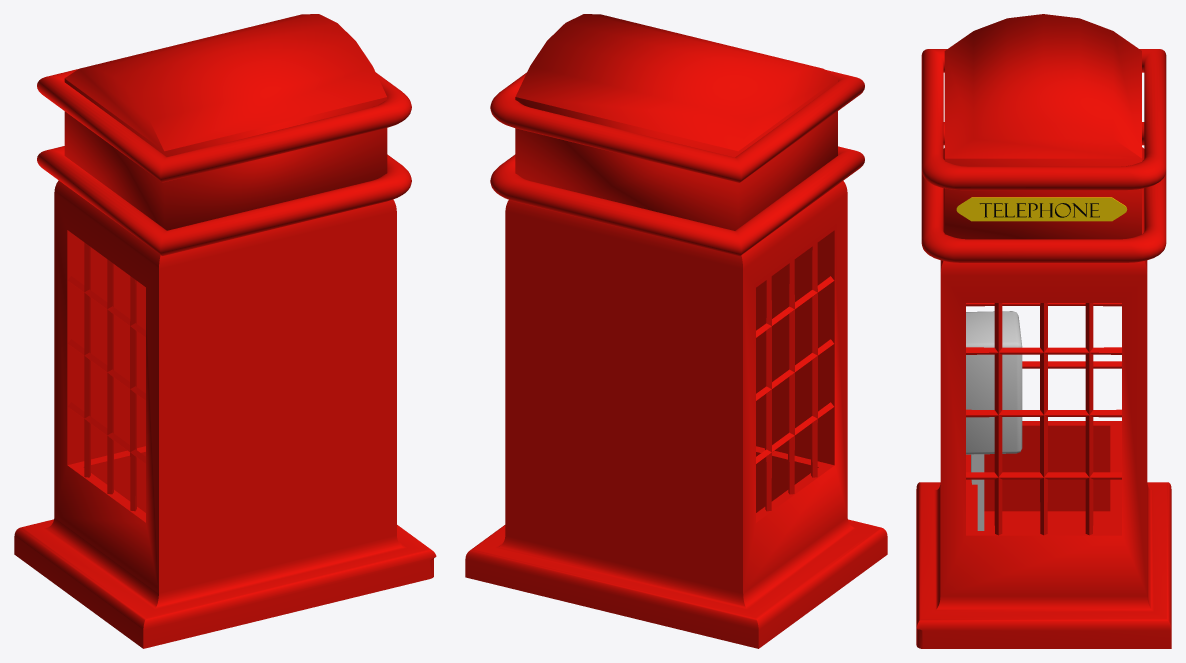
Rendered from Phonebooth.glb.
3 views of the same model, side by side, from view 1: azimuth 30°, elevation 25°; view 2: azimuth 150°, elevation 25°; view 3: azimuth 270°, elevation 25° (orthographic).
Parts seen in each view (by area): view 1: Plane; view 2: Plane; view 3: Plane.
Part boxes in pixels (<box>): Plane: <box>14,14,436,648</box>; Plane: <box>465,14,887,648</box>; Plane: <box>916,14,1171,648</box>.
Size of the model in its own units: 3.69 by 6.2 by 2.81.
